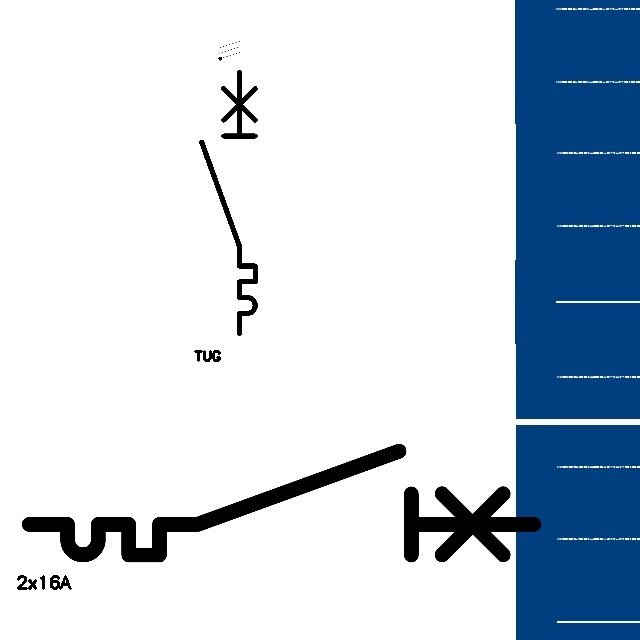interruptor_termomagnetico: (16, 438, 547, 568), (195, 66, 262, 340)
